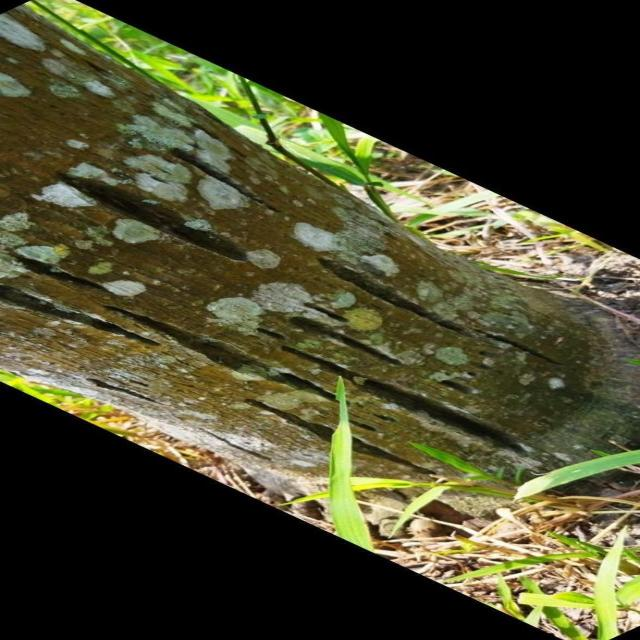Stem_Cracking: (93, 122, 497, 432)
